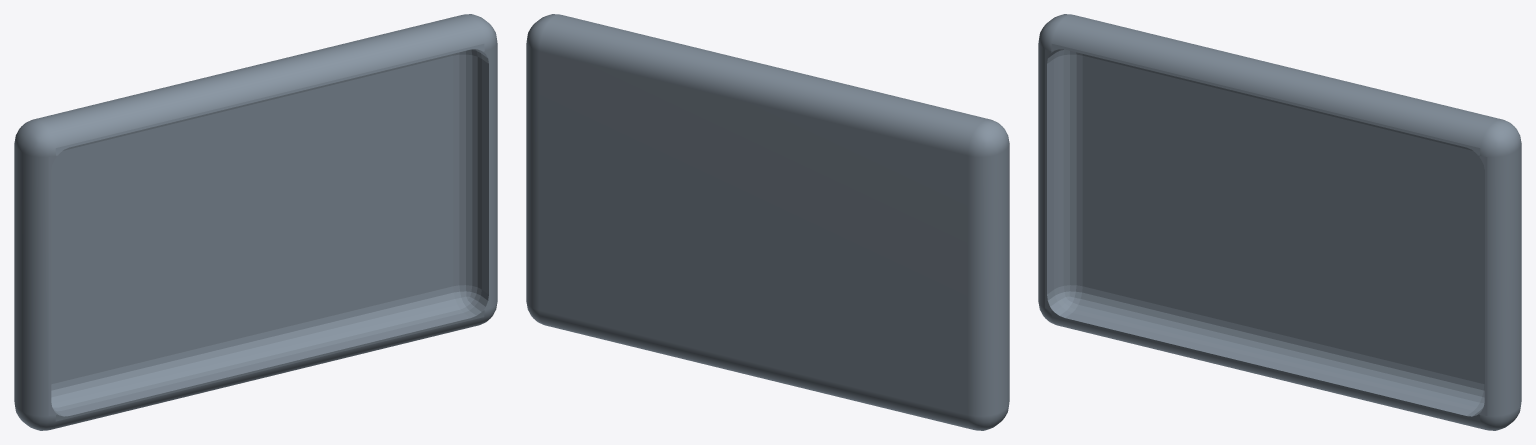
File: sideways-tray.obj
3 renders of one model, left to right at view 1: azimuth 30°, elevation 25°; view 2: azimuth 150°, elevation 25°; view 3: azimuth 330°, elevation 25°, orthographic.
Parts seen in each view (by area): view 1: Single-mesh_utility_tray; view 2: Single-mesh_utility_tray; view 3: Single-mesh_utility_tray.
Boxes of the visible parts, <box> form: Single-mesh_utility_tray: <box>14,14,497,430</box>; Single-mesh_utility_tray: <box>526,14,1009,430</box>; Single-mesh_utility_tray: <box>1038,14,1521,430</box>.
Bounding box in the file's own units: 0.47 × 0.29 × 0.05.
